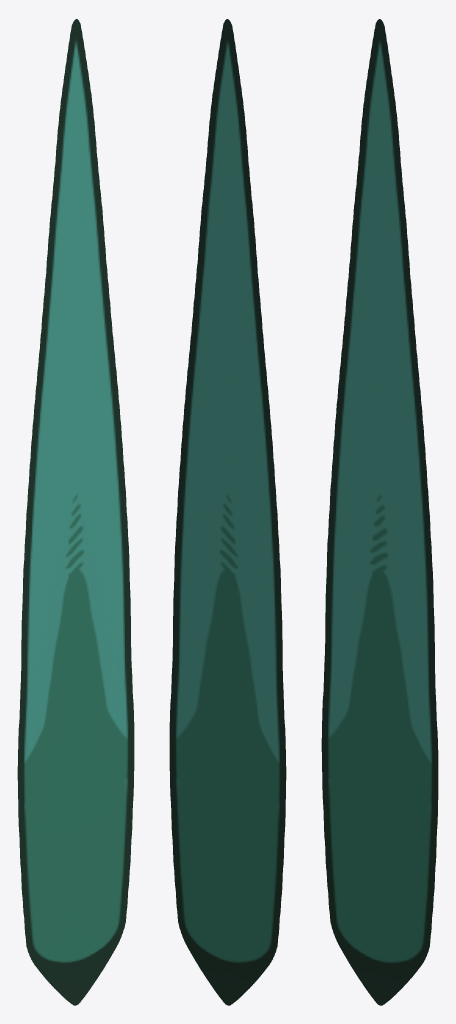
Rendered from HojaN.fbx.
3 renders of one model, left to right at view 1: azimuth 30°, elevation 25°; view 2: azimuth 150°, elevation 25°; view 3: azimuth 330°, elevation 25°, orthographic.
Visible parts, largest first — view 1: HojaN; view 2: HojaN; view 3: HojaN.
Boxes of the visible parts, left/top/right/bottom form: HojaN: left=17, top=19, right=134, bottom=1005; HojaN: left=169, top=19, right=286, bottom=1005; HojaN: left=321, top=19, right=438, bottom=1005.
Bounding box in the file's own units: 0.2139 × 1.63 × 7.14e-08.
